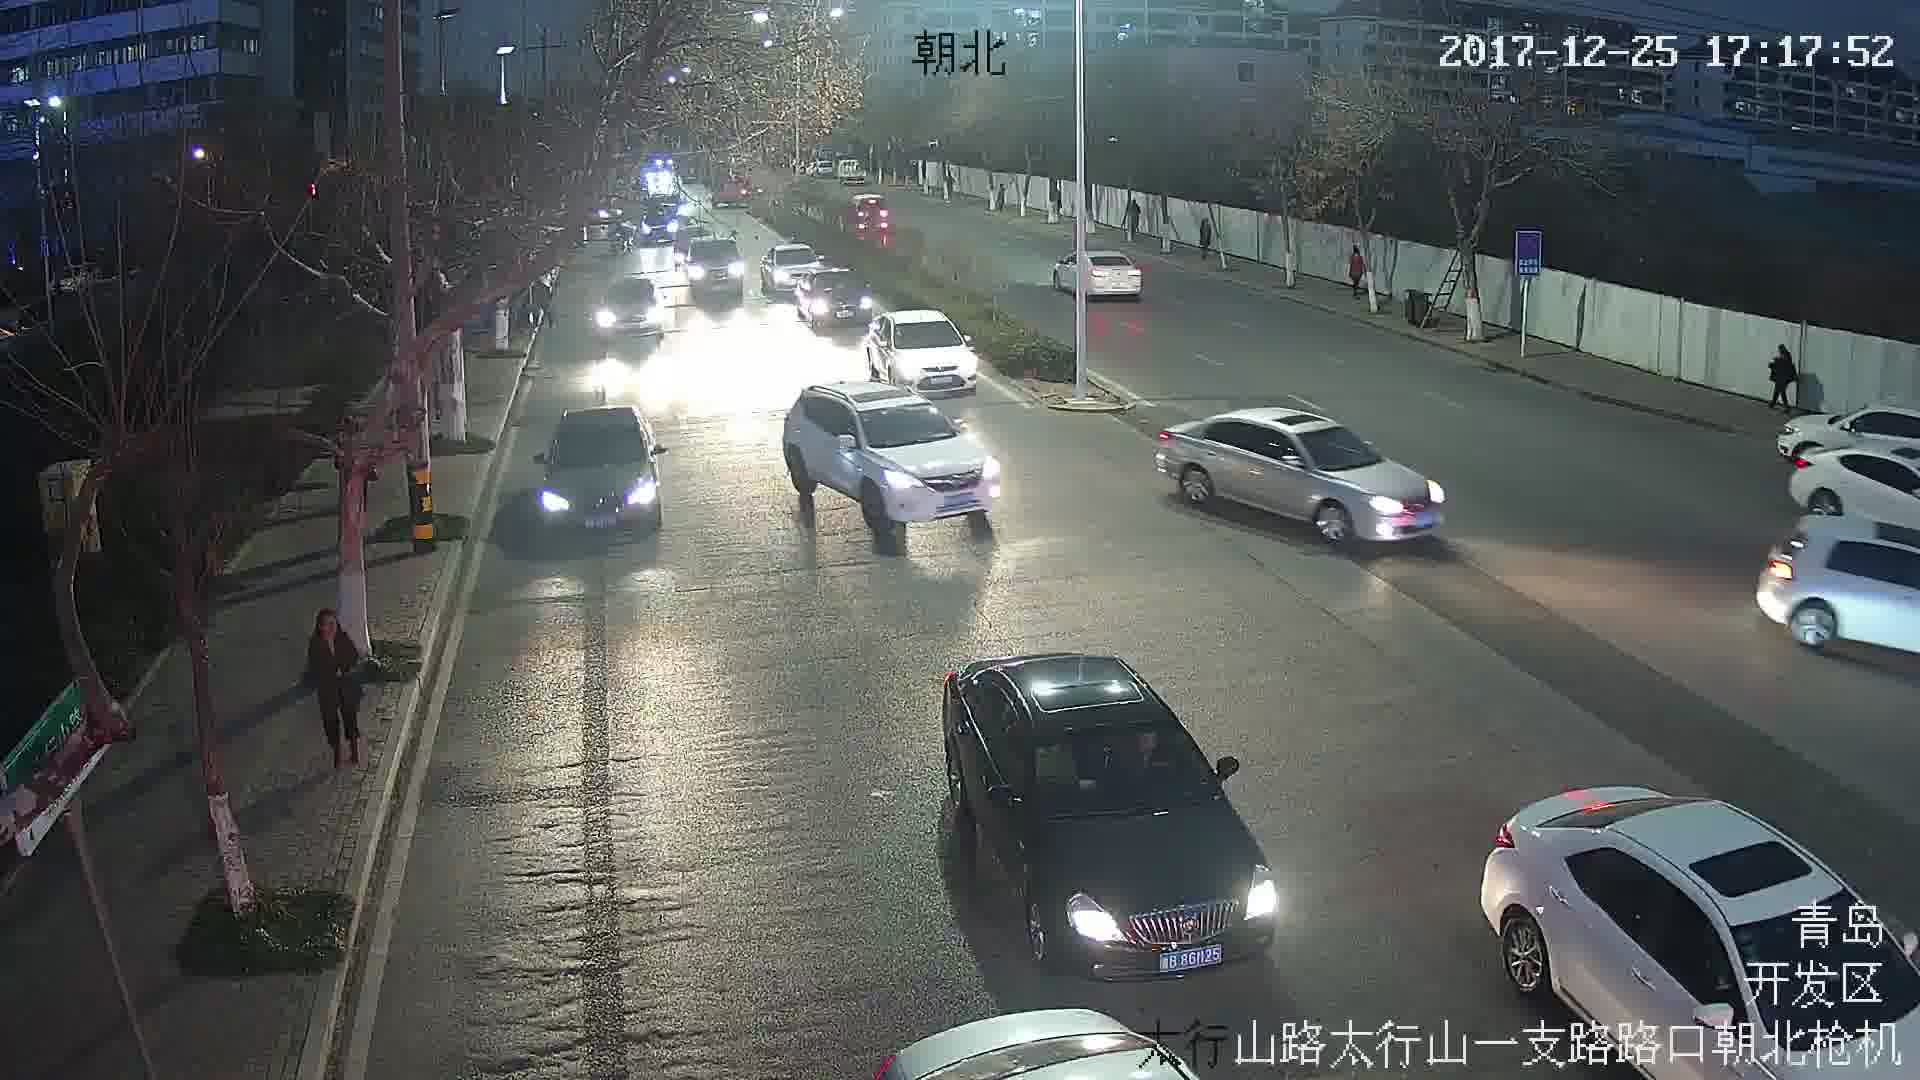car: (937, 659, 1275, 971), (1156, 405, 1453, 553), (782, 381, 1002, 537), (531, 409, 667, 548), (864, 312, 974, 396), (1053, 249, 1146, 300), (591, 280, 659, 346), (789, 273, 880, 321), (685, 238, 749, 294)
person: (305, 613, 380, 767), (1766, 345, 1798, 406), (1339, 250, 1367, 299)
